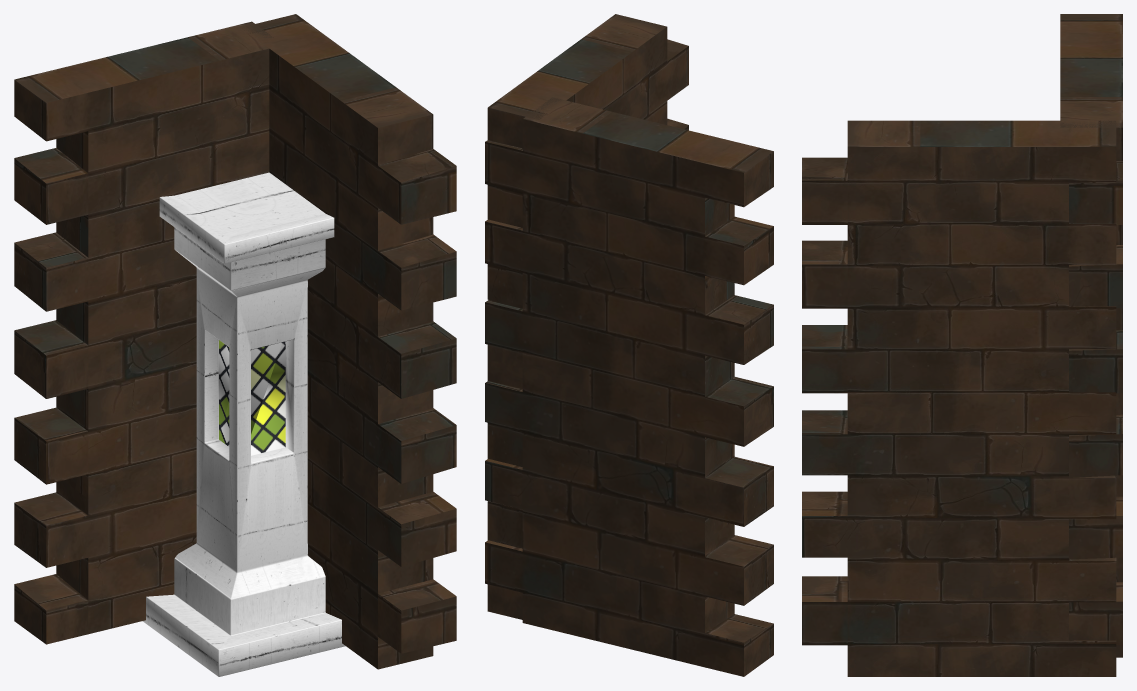
Rendered from WallConnectionColumn.fbx.
The picture shows the model from 3 angles, left to right: view 1: azimuth 30°, elevation 25°; view 2: azimuth 150°, elevation 25°; view 3: azimuth 270°, elevation 25°; orthographic projection. The views are drawn at different scales.
Parts seen in each view (by area): view 1: ściana.001, Cube; view 2: ściana.001; view 3: ściana.001.
Part boxes in pixels (x1,y1,x2,y2): ściana.001: (14, 14, 456, 669); Cube: (142, 172, 345, 676); ściana.001: (485, 14, 773, 676); ściana.001: (802, 14, 1122, 676).
Size of the model in its own units: 202 by 378 by 206.
